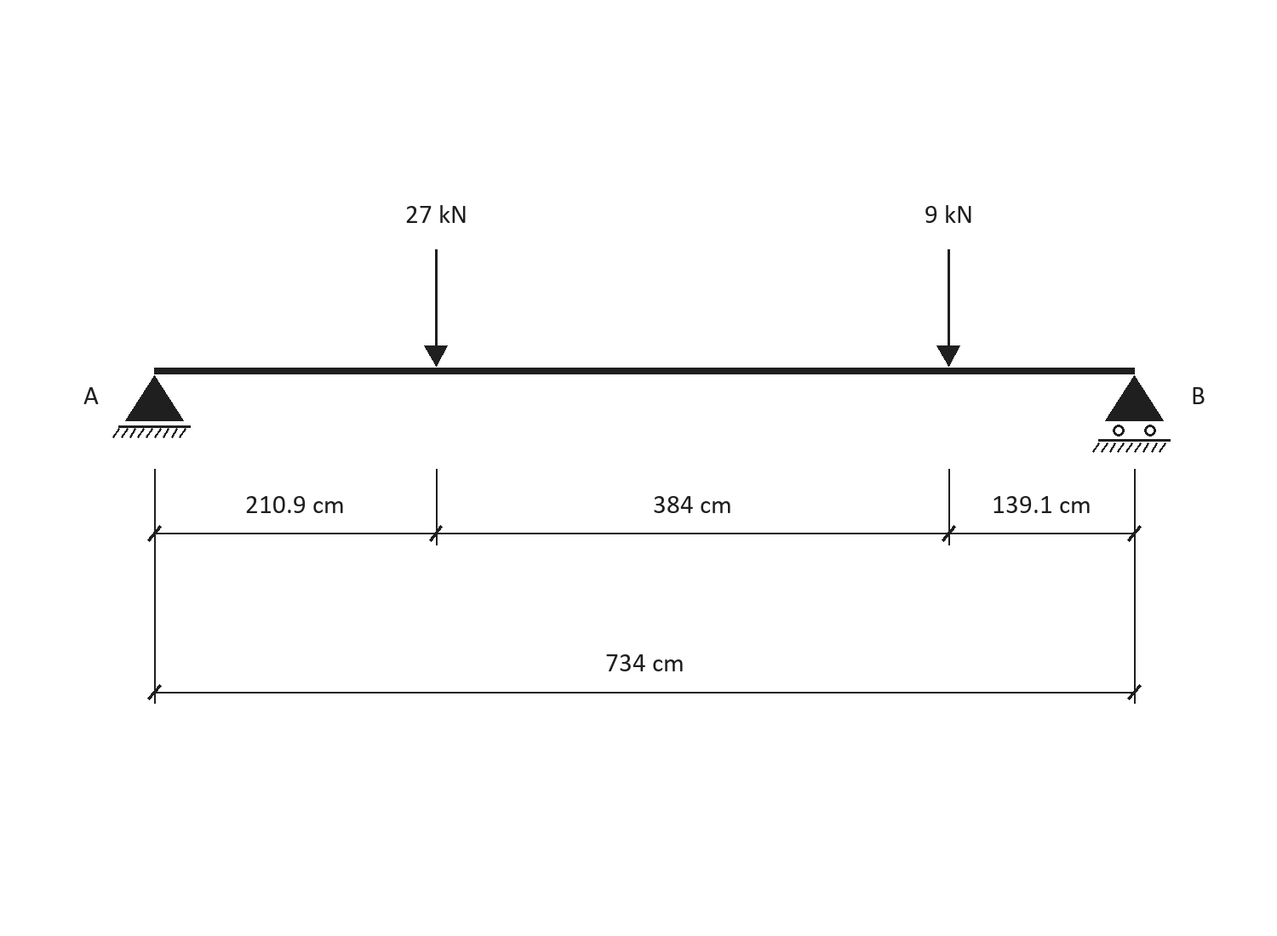pin_support: (112, 375, 191, 438)
point_load: (424, 249, 448, 367), (936, 249, 960, 367)
roller_support: (1092, 375, 1171, 453)
